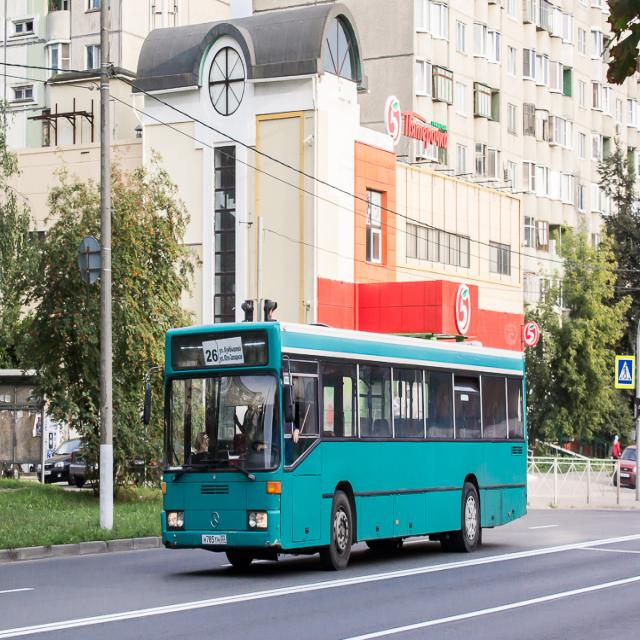number-of-bus: (205, 342, 220, 369)
